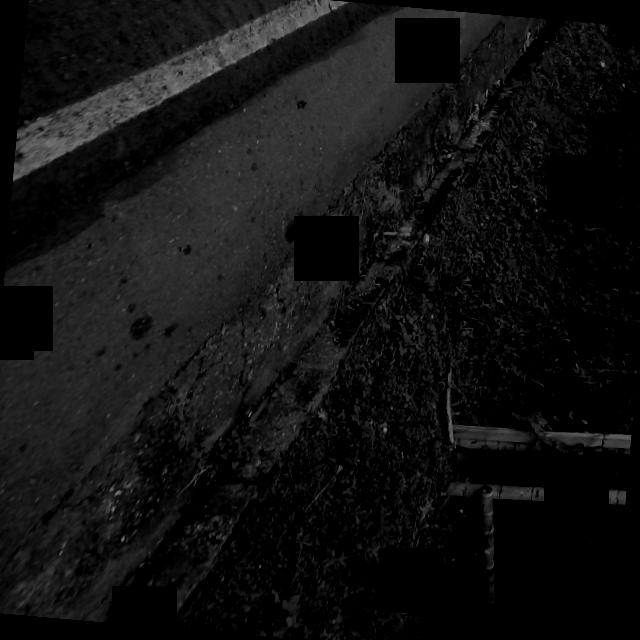DITCH: (0, 0, 576, 640), (0, 0, 565, 640), (0, 0, 561, 640)
